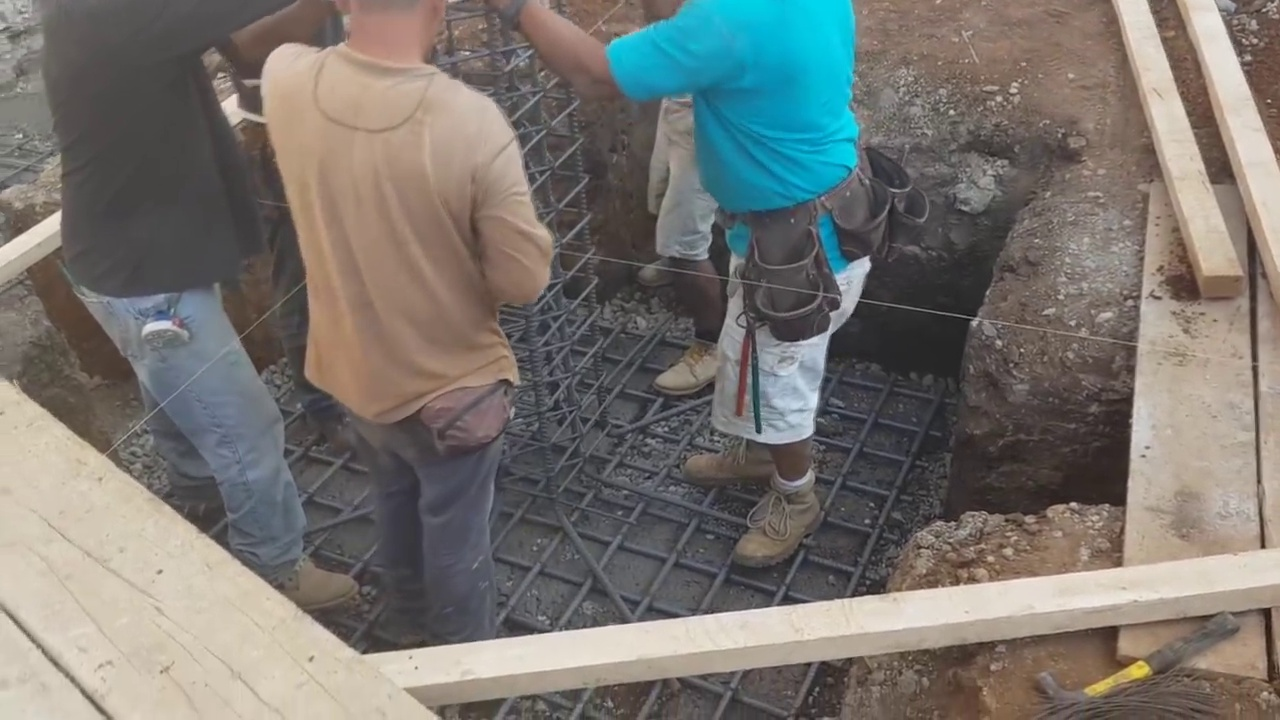person: (269, 0, 553, 658), (568, 0, 903, 545), (45, 0, 311, 598), (628, 76, 746, 395)
